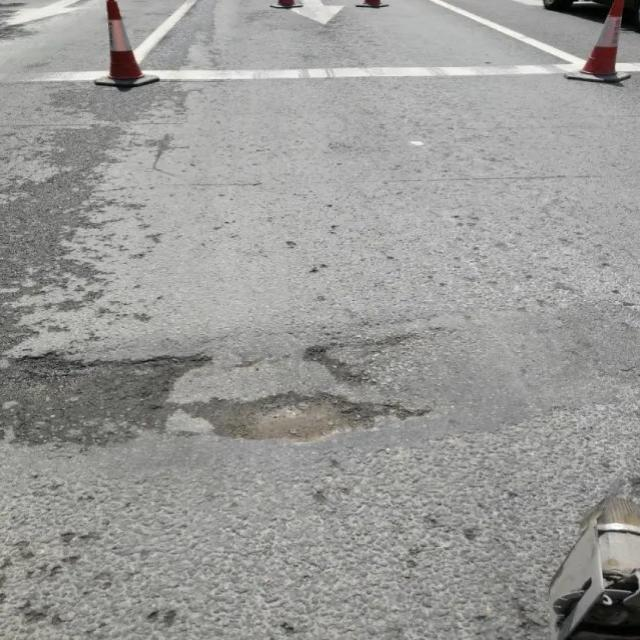Pothole: (15, 346, 436, 446)
